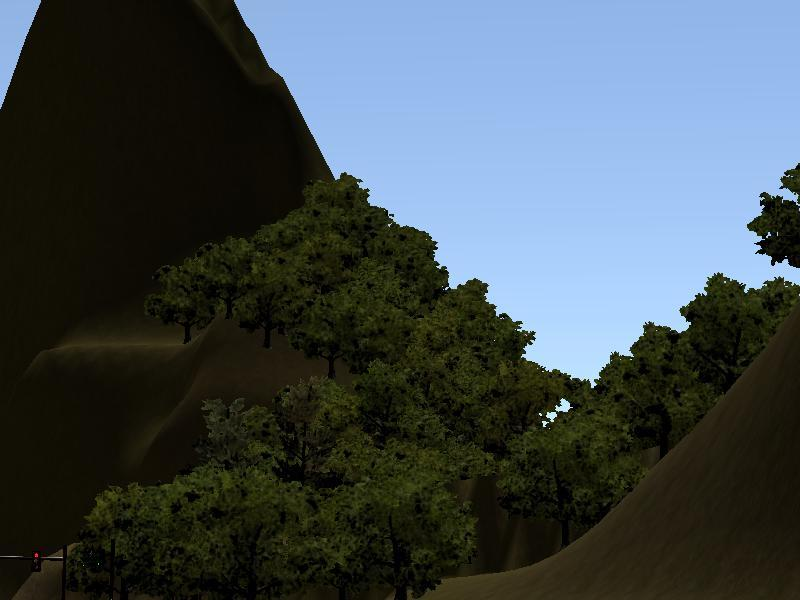Red: (29, 548, 42, 573)
